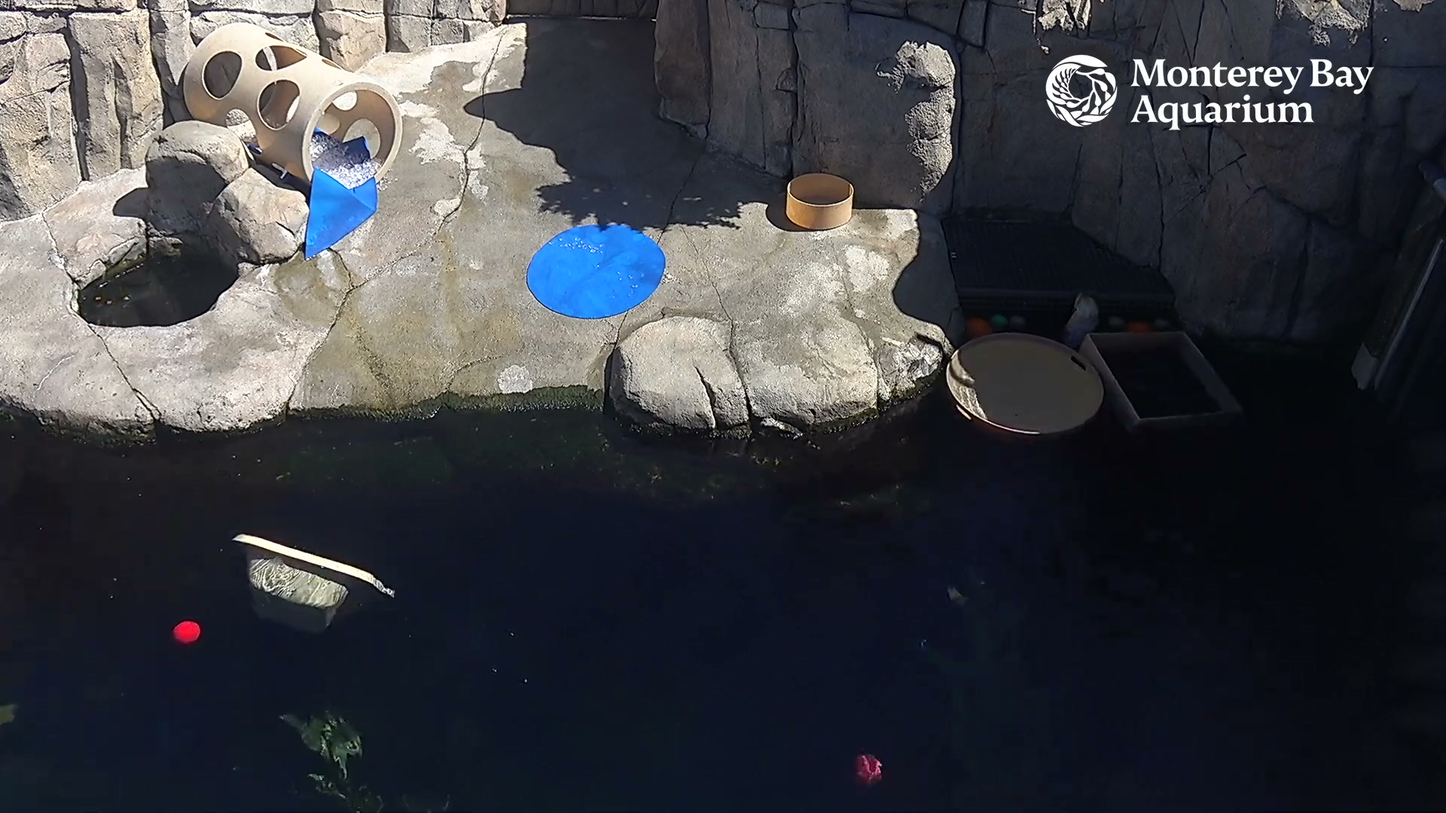Southern Sea Otter: (1041, 275, 1138, 397)
